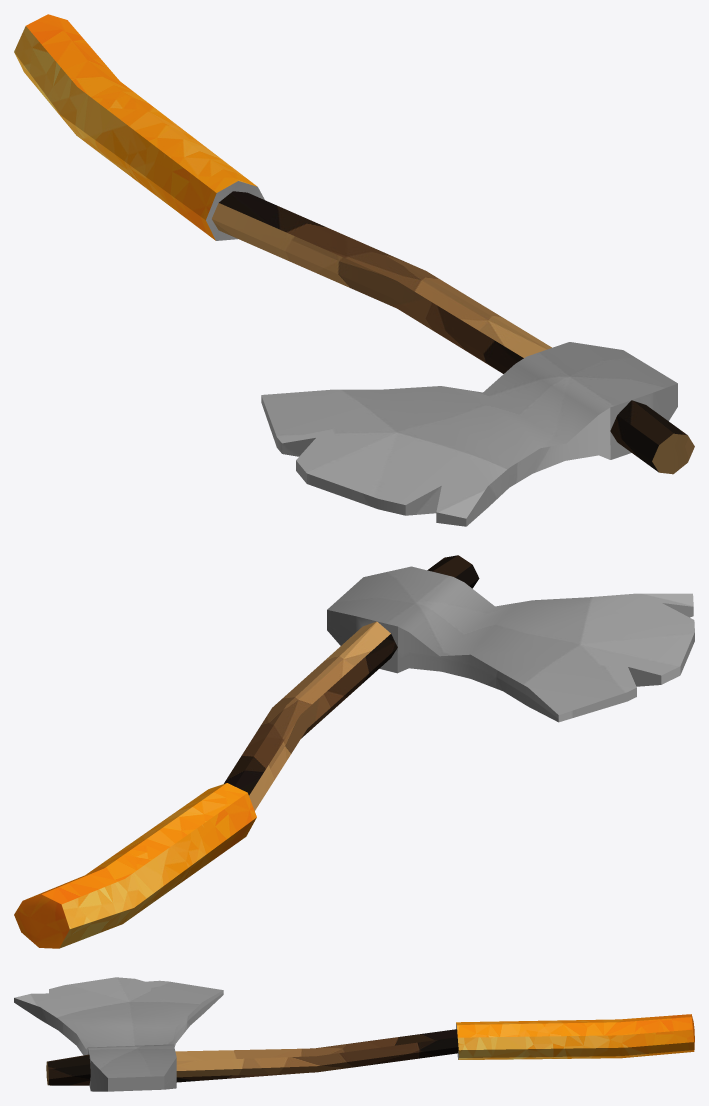
3 renders of one model, top to bottom at view 1: azimuth 30°, elevation 25°; view 2: azimuth 150°, elevation 25°; view 3: azimuth 270°, elevation 25°, orthographic. The views are drawn at different scales.
Parts seen in each view (by area): view 1: ax; view 2: ax; view 3: ax.
Boxes of the visible parts, box(x1,y1,x2,y2) form: ax: box(14, 14, 694, 526); ax: box(14, 555, 694, 948); ax: box(14, 977, 694, 1091).
Size of the model in its own units: 0.3601 by 0.078 by 0.9911.
